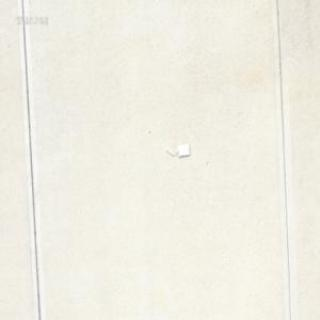LuggageTagtrack_idkeyframe: (163, 141, 189, 159)
